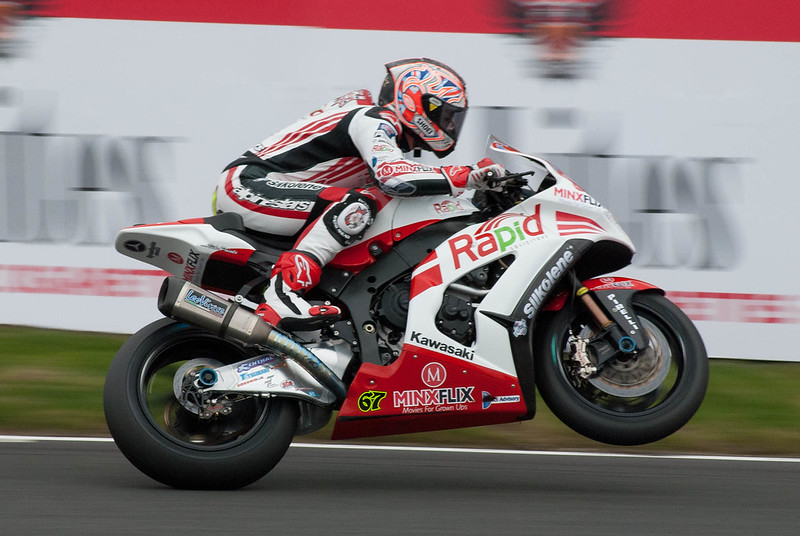helmet: (376, 53, 476, 156)
